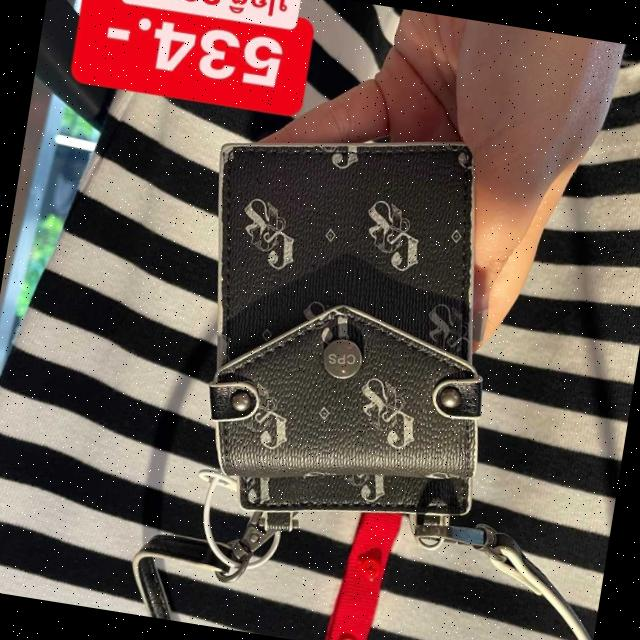handbag: (163, 89, 538, 597)
